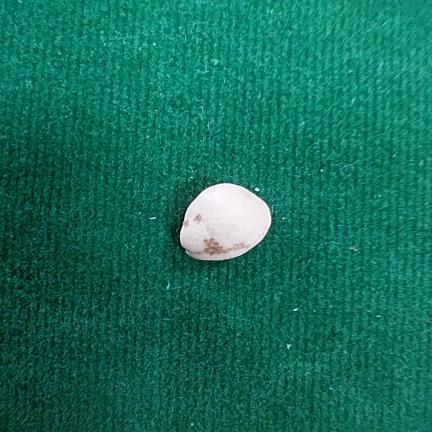immature: (180, 183, 271, 261)
